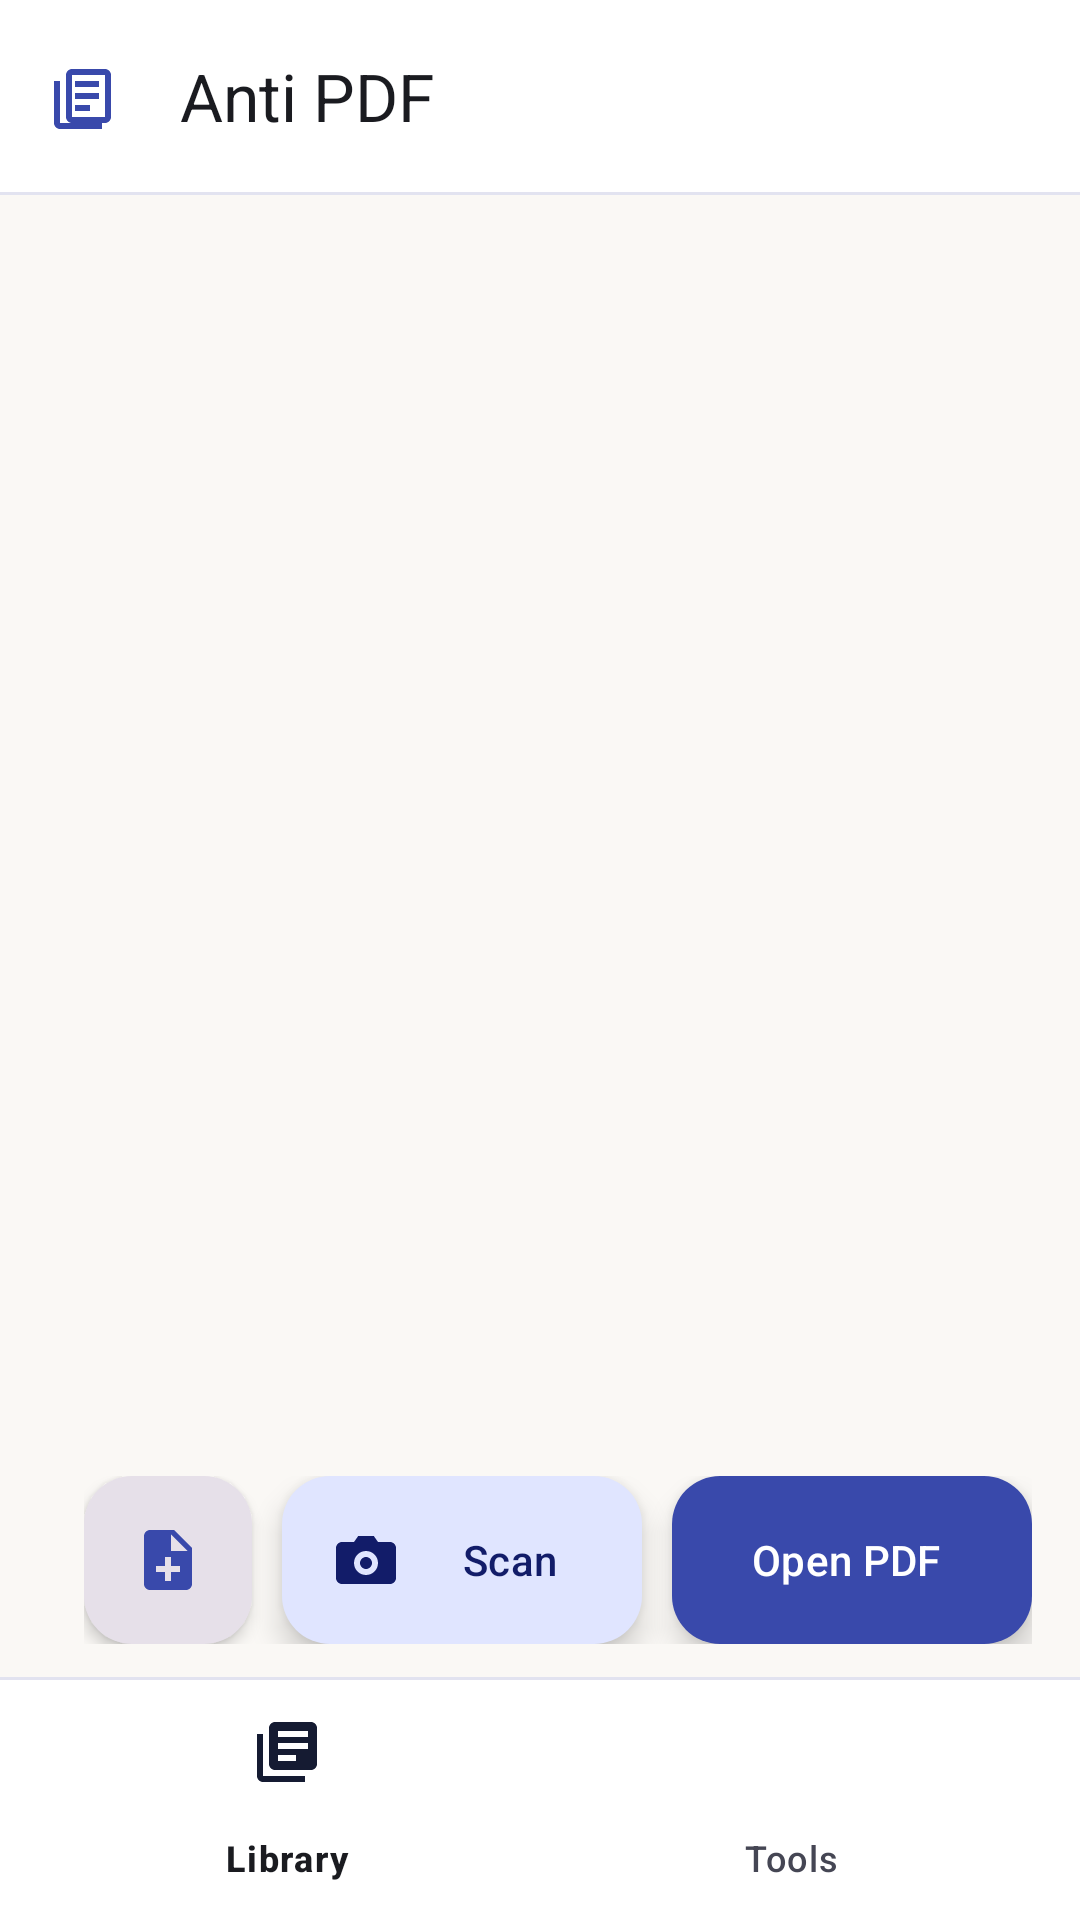

Icons on this 1080 × 1920 Android screen, each with its box as (x1, y1, x2, y2):
Create PDF: (84, 1476, 252, 1644)
